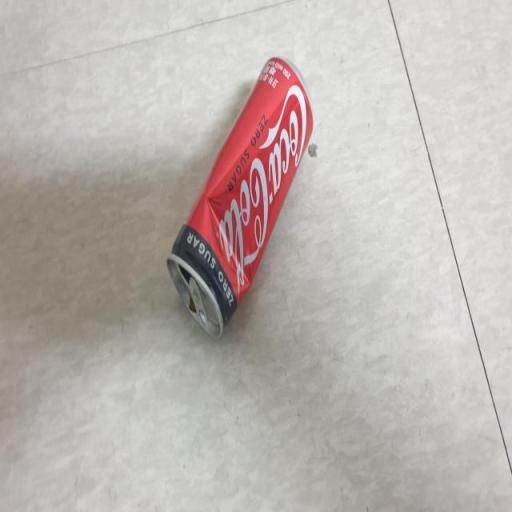metal: (156, 33, 326, 364)
